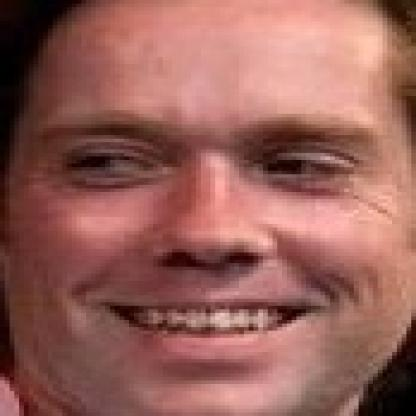male: (0, 0, 412, 413)
